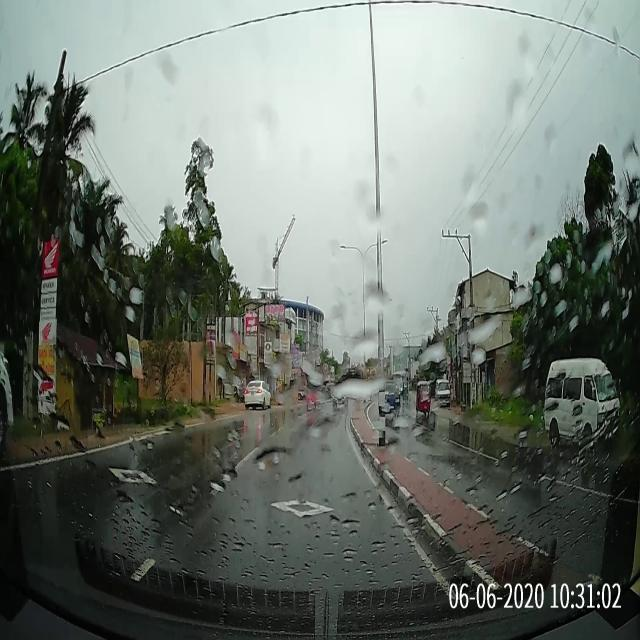diamond: (200, 493, 408, 528)
